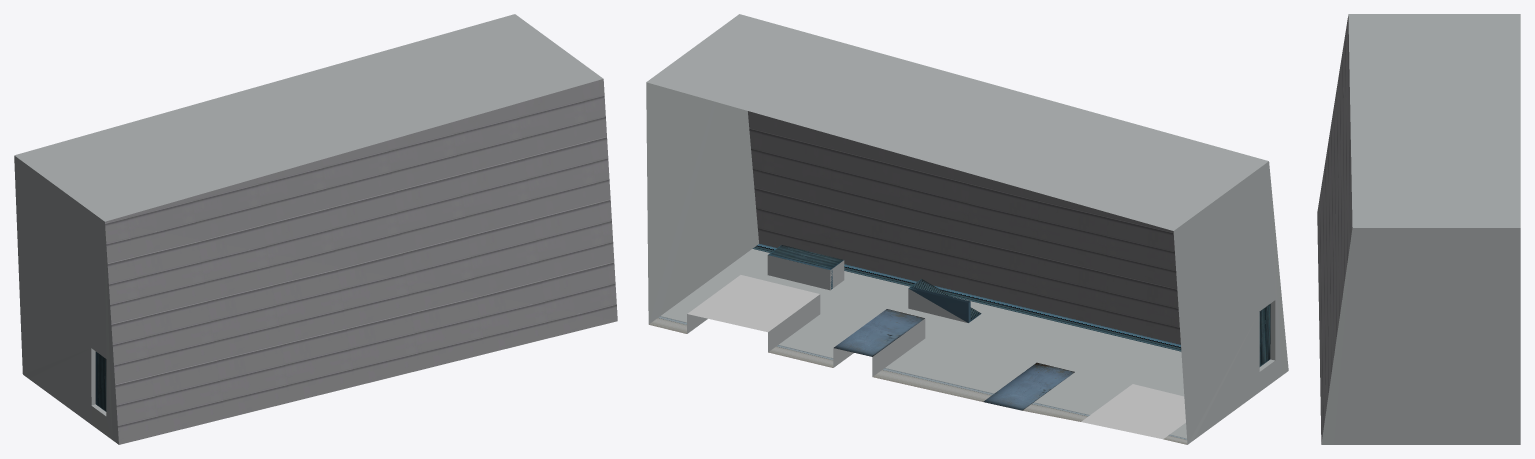
The model's file is Myyrivahe_29e-origo.obj.
3 views of the same model, side by side, from view 1: azimuth 30°, elevation 25°; view 2: azimuth 150°, elevation 25°; view 3: azimuth 270°, elevation 25° (orthographic). The views are drawn at different scales.
Parts seen in each view (by area): view 1: Myyrivahe_29e; view 2: Myyrivahe_29e; view 3: Myyrivahe_29e.
Part boxes in pixels (bbox=[...]): Myyrivahe_29e: bbox=[14, 14, 617, 444]; Myyrivahe_29e: bbox=[646, 14, 1288, 444]; Myyrivahe_29e: bbox=[1317, 14, 1520, 444].
Size of the model in its own units: 13.75 by 6 by 5.07.
